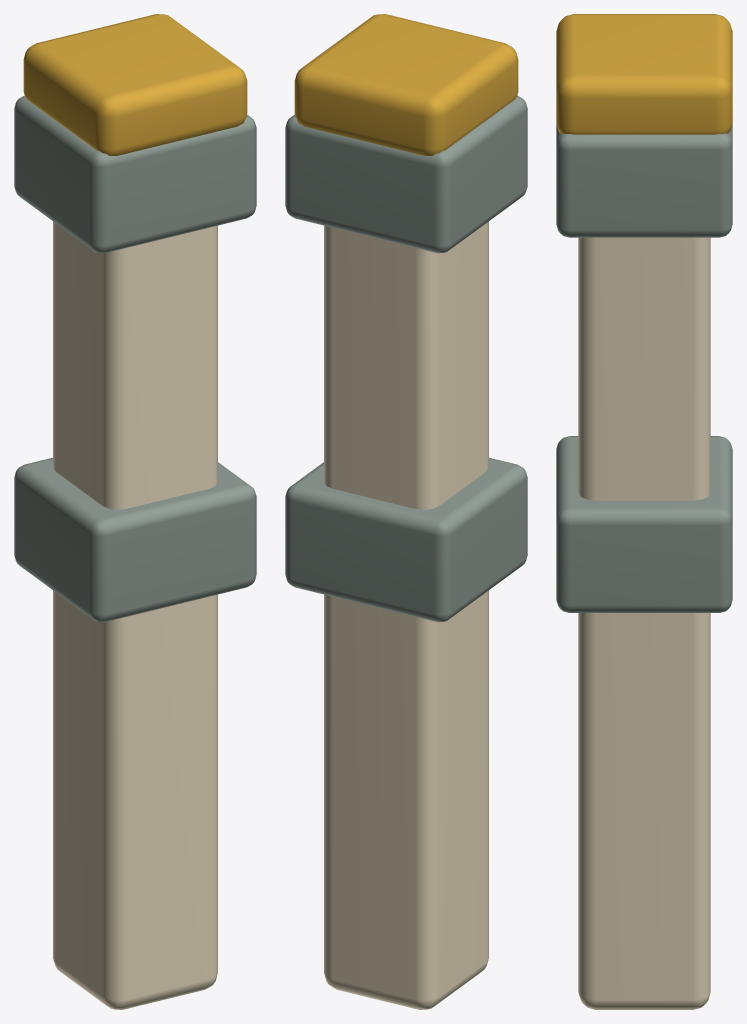
File: bridge_post.glb
3 renders of one model, left to right at view 1: azimuth 30°, elevation 25°; view 2: azimuth 150°, elevation 25°; view 3: azimuth 270°, elevation 25°, orthographic.
Visible parts, largest first — view 1: ivory, metal, yellow; view 2: ivory, metal, yellow; view 3: ivory, metal, yellow.
Boxes of the visible parts, x1,y1,x2,y2 form: ivory: (53,221,217,1009); metal: (14,95,256,622); yellow: (23,14,247,155); ivory: (324,221,488,1009); metal: (285,95,527,622); yellow: (294,14,518,155); ivory: (578,237,710,1009); metal: (556,124,732,612); yellow: (556,14,732,134).
Bounding box in the file's own units: 0.22 × 1.18 × 0.2.
